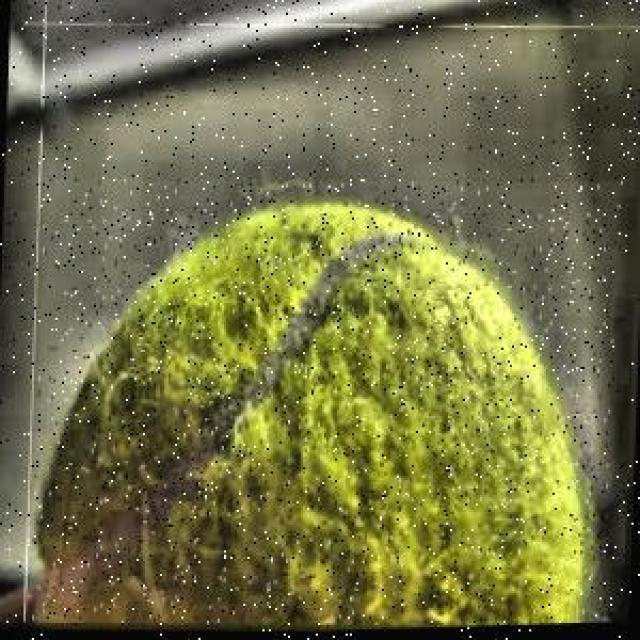tennis-ball: (28, 164, 628, 638)
